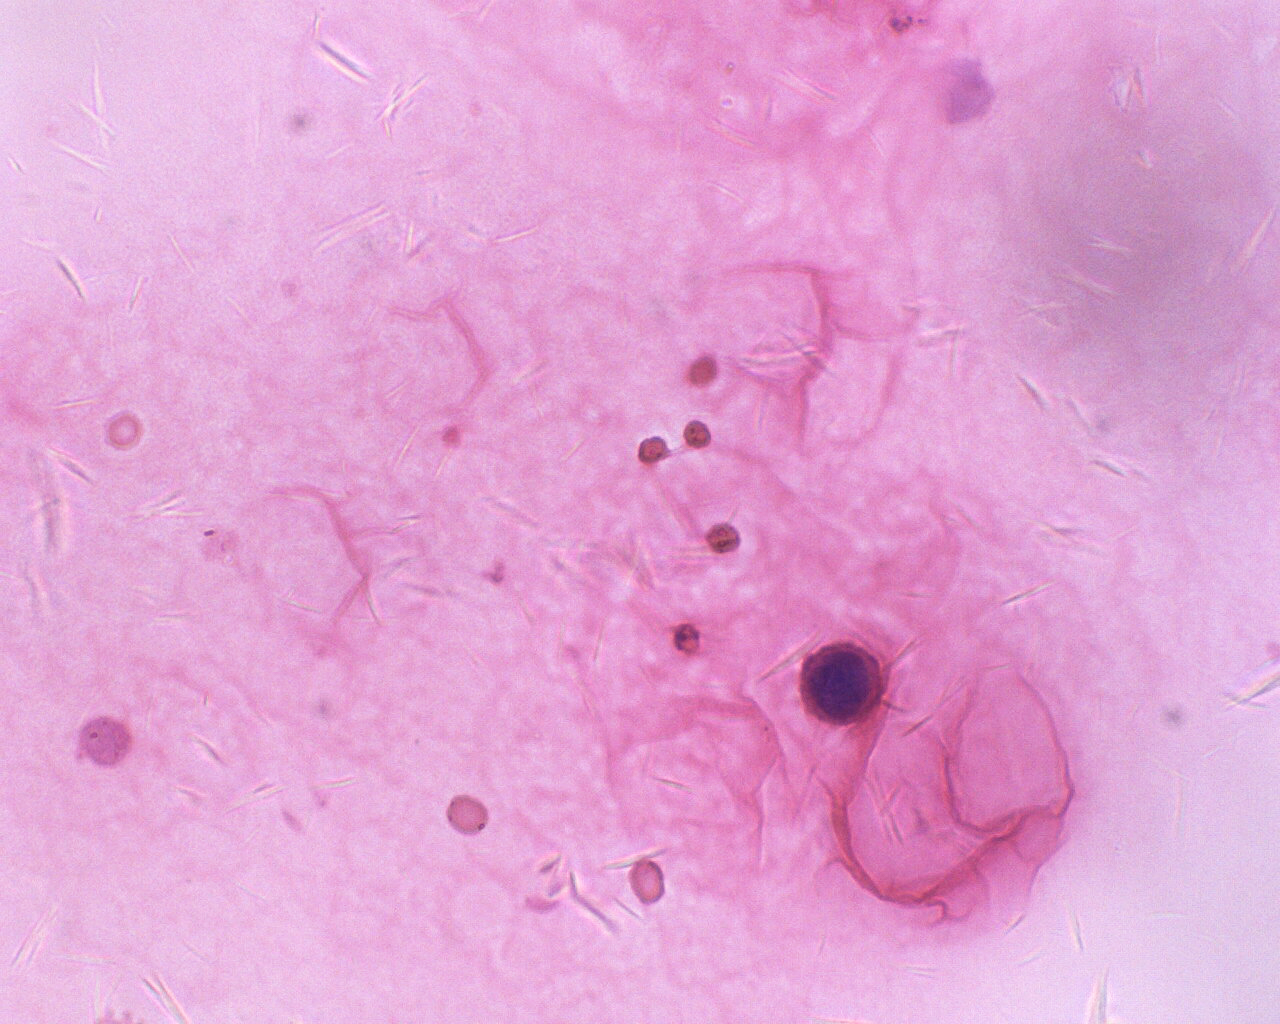ab: (795, 633, 897, 732)
